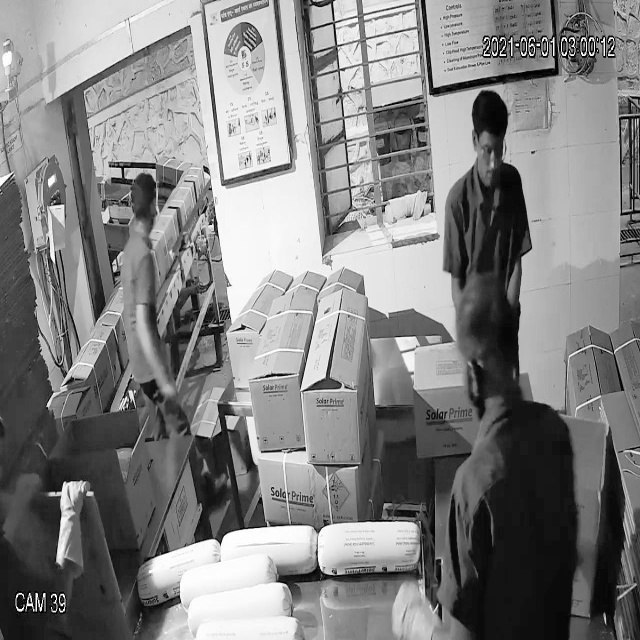Gafas: (470, 131, 512, 172)
